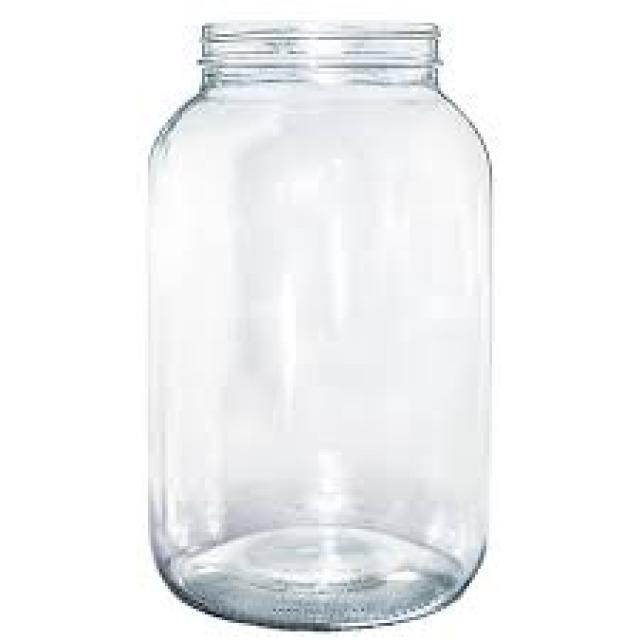glass: (139, 17, 495, 632)
